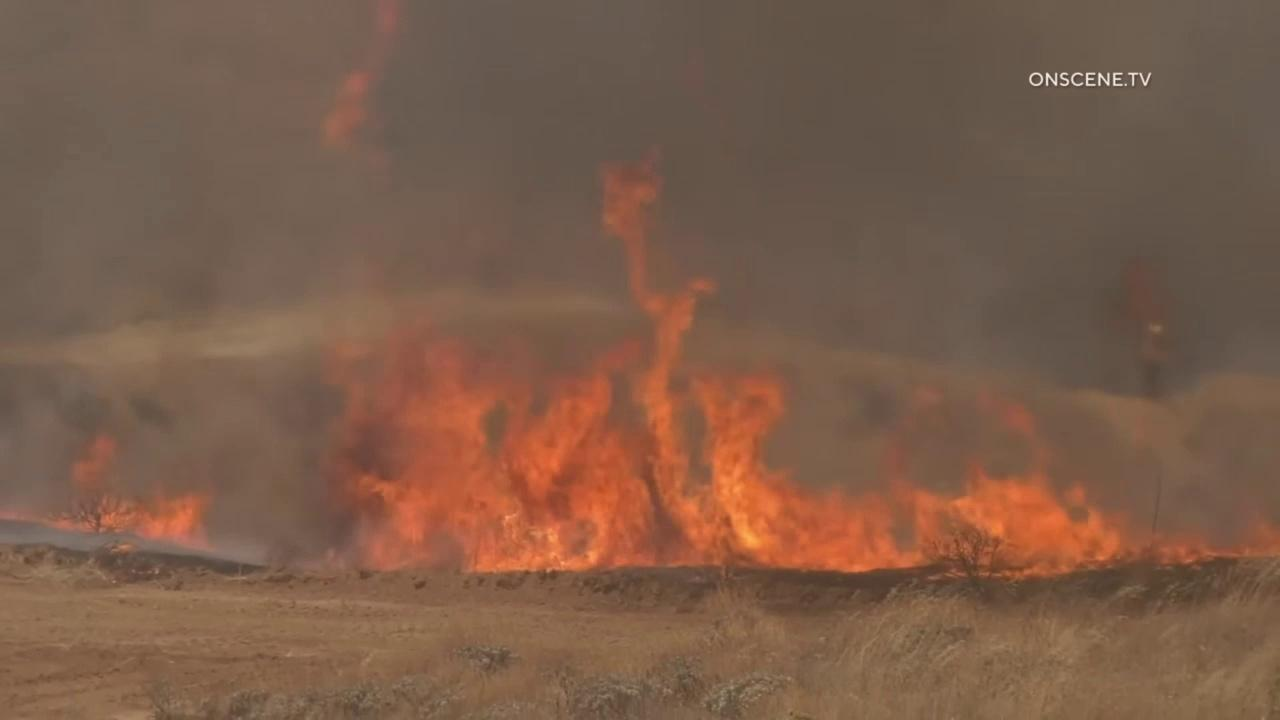fire: (317, 141, 1280, 583), (0, 432, 214, 553), (318, 64, 372, 149), (375, 0, 400, 47)
smoke: (0, 0, 1280, 573)
